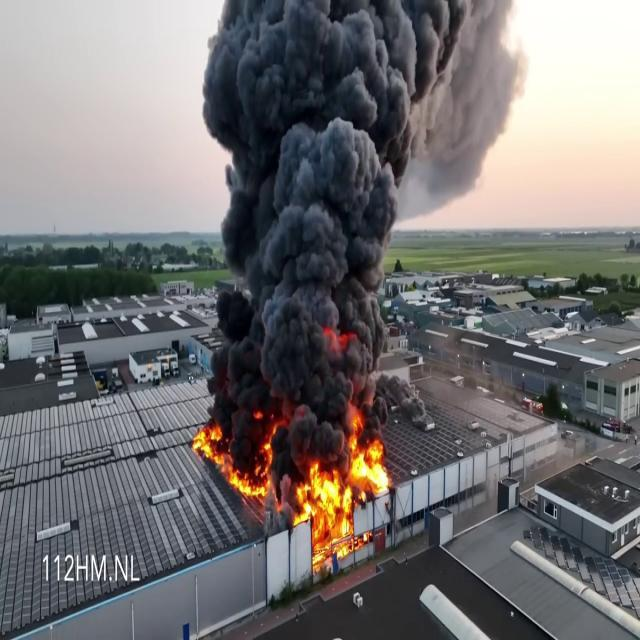Fire: (293, 414, 389, 564), (192, 417, 266, 512)
Smoke: (189, 0, 527, 424)
